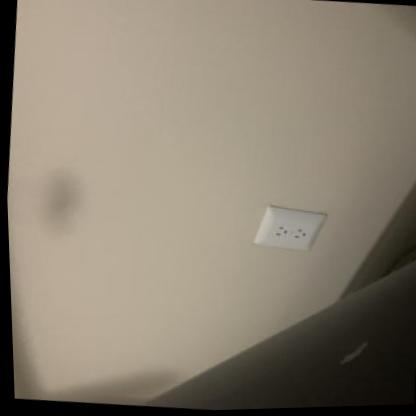OUTLET: (253, 203, 329, 252)
